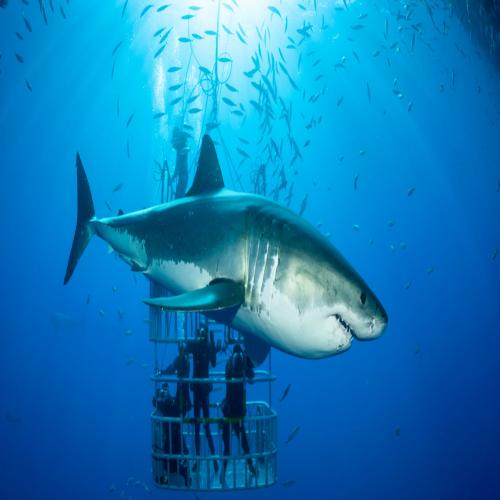shark-endangered: (81, 160, 394, 379)
